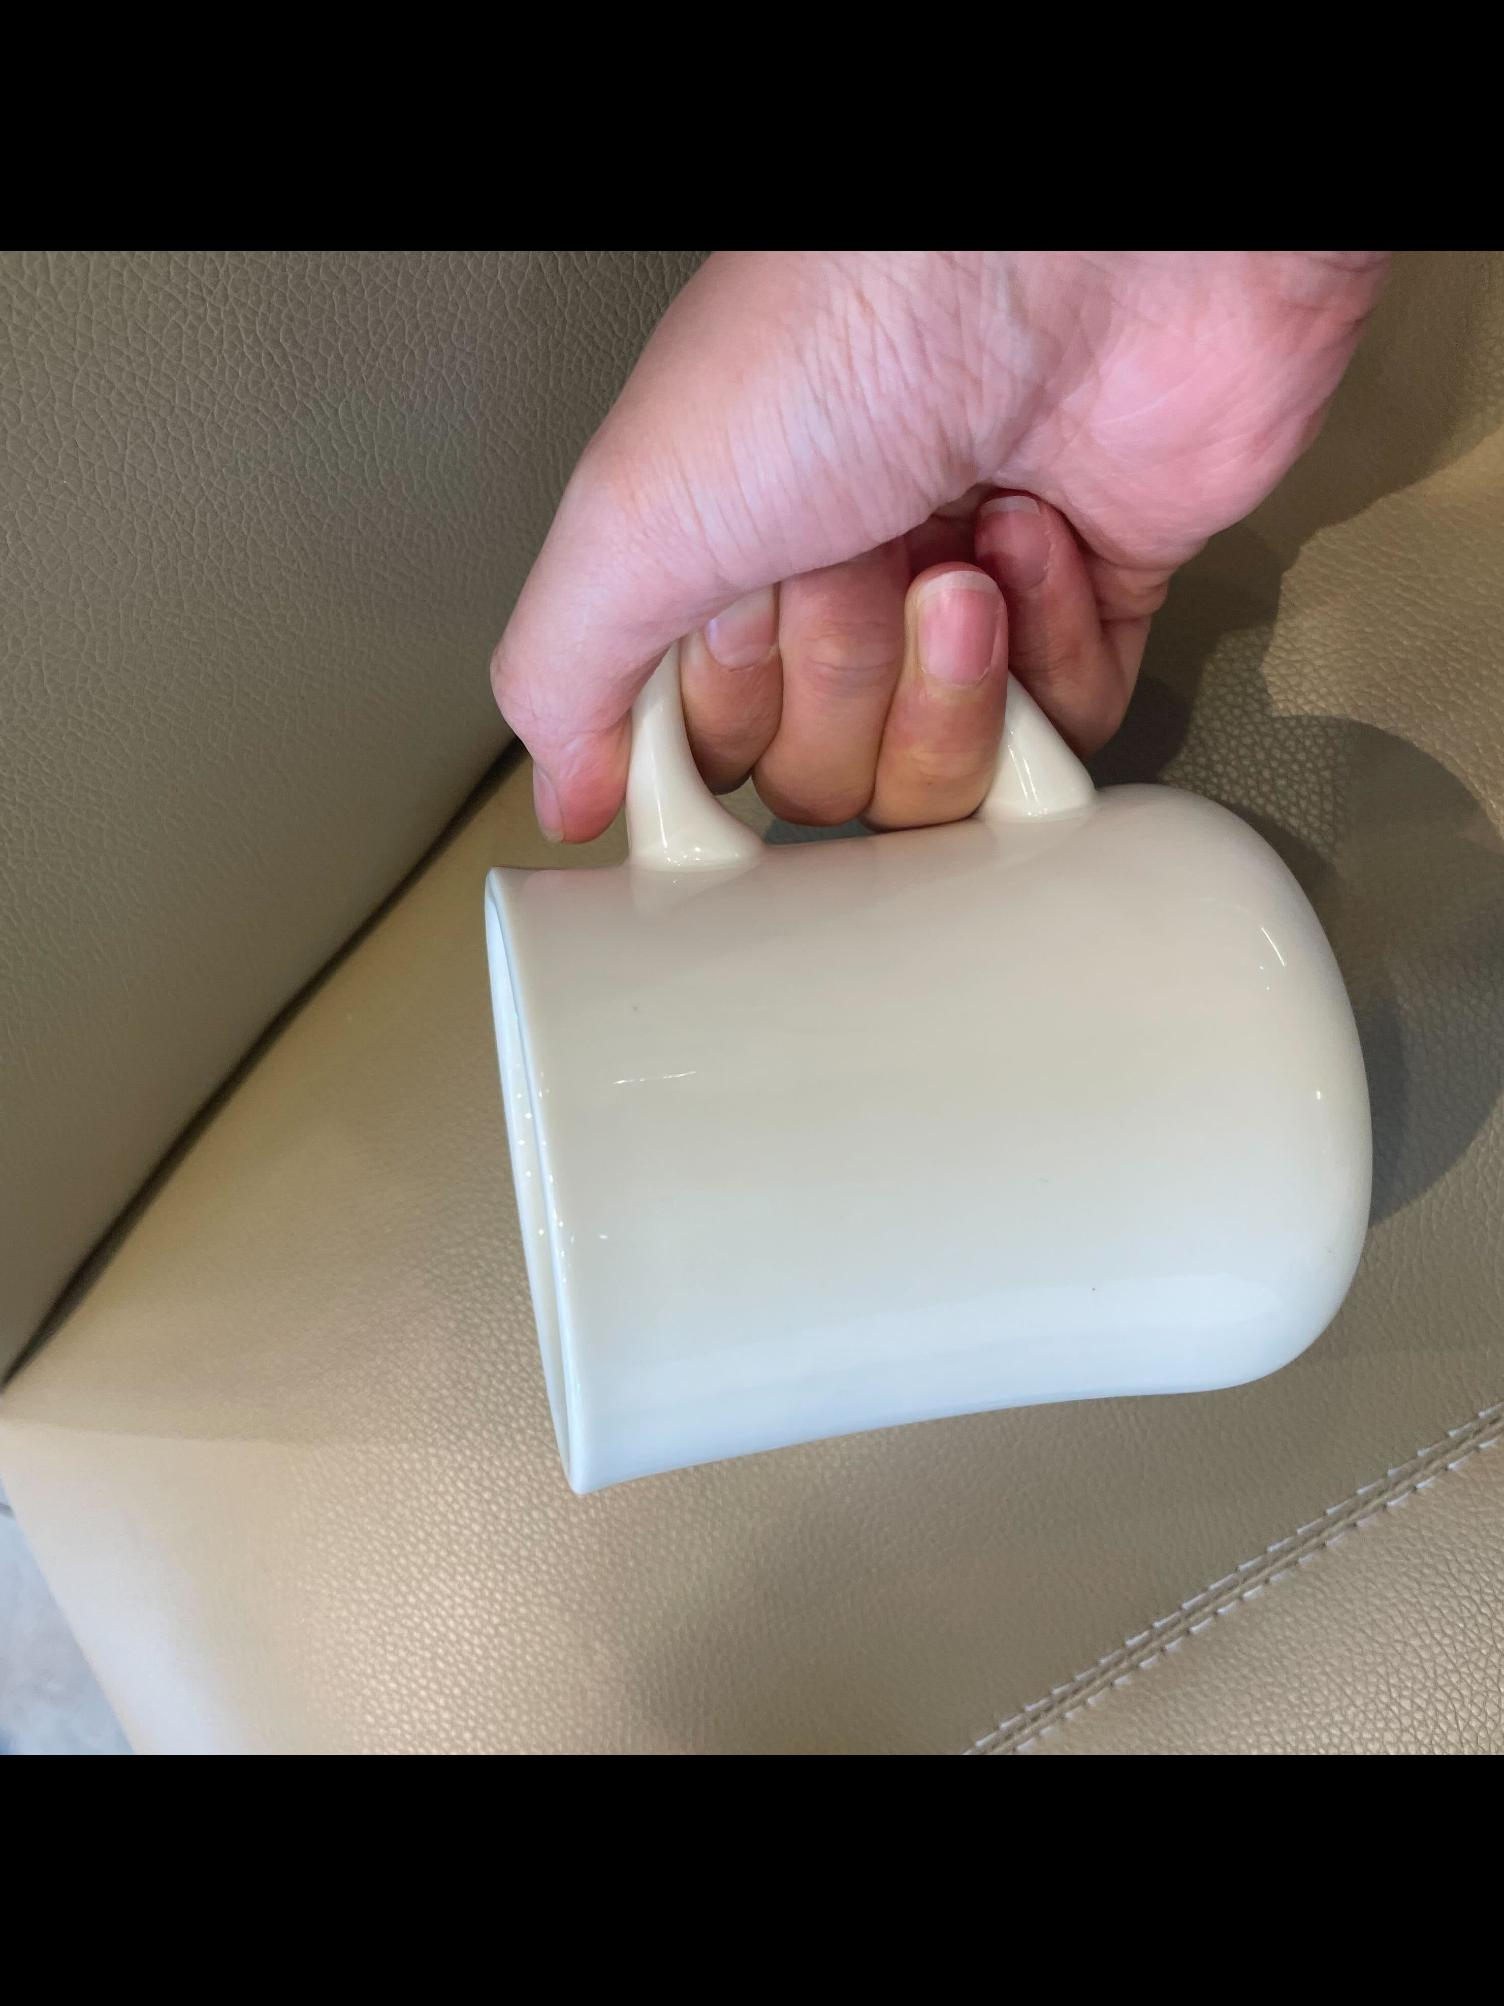cup: (460, 251, 1504, 1516)
